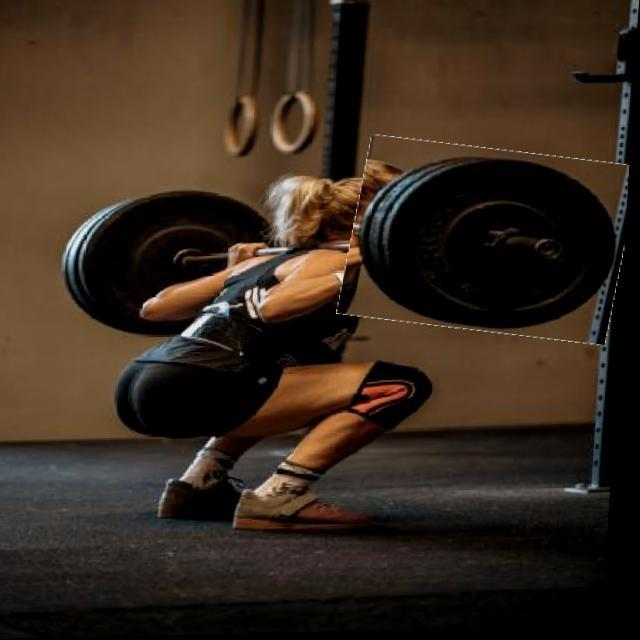barbell: (345, 142, 634, 345)
